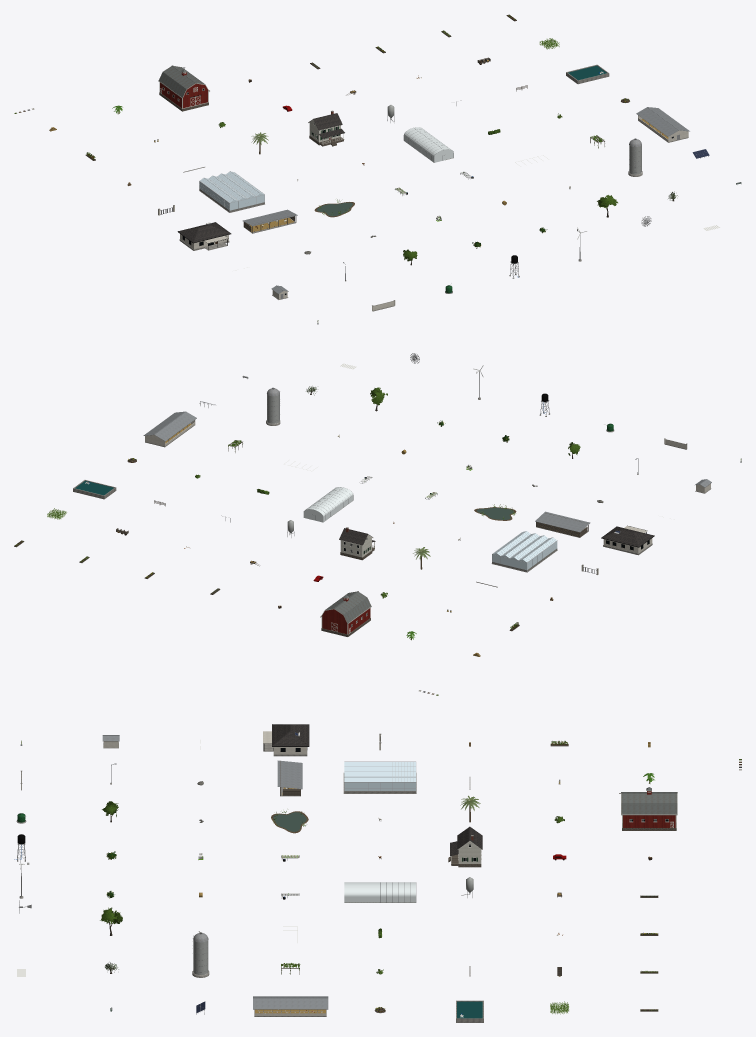
The model's file is assets.glb.
The picture shows the model from 3 angles, top to bottom: view 1: azimuth 30°, elevation 25°; view 2: azimuth 150°, elevation 25°; view 3: azimuth 270°, elevation 25°; orthographic projection. The views are drawn at different scales.
Visible parts, largest first — view 1: Glasshouse, Barn_Mesh, ModernHouse, PoultryHouse, Greenhouse, Farmhouse_Mesh, LivestockShed, FishPond; view 2: Glasshouse, Barn_Mesh, ModernHouse, PoultryHouse, Greenhouse, LivestockShed, Farmhouse_Mesh; view 3: Glasshouse, Barn_Mesh, PoultryHouse, Greenhouse, ModernHouse, Farmhouse_Mesh, LivestockShed, Silo_Mesh, FishPond, NaturalPond.
Part boxes in pixels (box(x1,y1,x2,y2)): Glasshouse: box(199, 171, 264, 212); Barn_Mesh: box(158, 65, 209, 111); ModernHouse: box(177, 222, 231, 250); PoultryHouse: box(636, 107, 689, 142); Greenhouse: box(403, 127, 453, 162); Farmhouse_Mesh: box(308, 110, 344, 146); LivestockShed: box(242, 209, 297, 233); FishPond: box(566, 64, 609, 84); Glasshouse: box(491, 531, 557, 572); Barn_Mesh: box(320, 591, 371, 636); ModernHouse: box(601, 525, 654, 555); PoultryHouse: box(143, 411, 196, 447); Greenhouse: box(303, 487, 353, 522); LivestockShed: box(535, 511, 590, 537); Farmhouse_Mesh: box(339, 527, 375, 560); Glasshouse: box(343, 761, 416, 793); Barn_Mesh: box(619, 787, 677, 830); PoultryHouse: box(253, 996, 328, 1016); Greenhouse: box(344, 882, 416, 902); ModernHouse: box(263, 724, 309, 756); Farmhouse_Mesh: box(448, 826, 482, 867); LivestockShed: box(277, 760, 302, 796); Silo_Mesh: box(192, 932, 209, 977); FishPond: box(456, 1000, 483, 1022); NaturalPond: box(271, 811, 308, 833).
Size of the model in its own units: 226 by 20.1 by 244.
78 materials, 35 textured.
